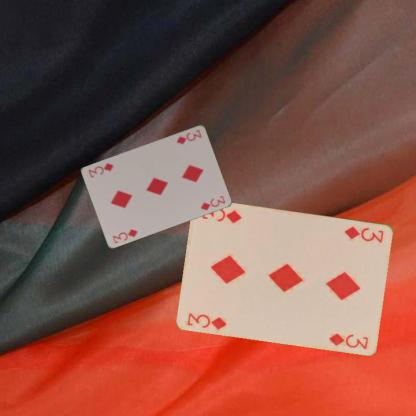3d: (342, 223, 385, 244), (185, 310, 228, 331), (174, 127, 203, 146), (110, 226, 139, 244)
